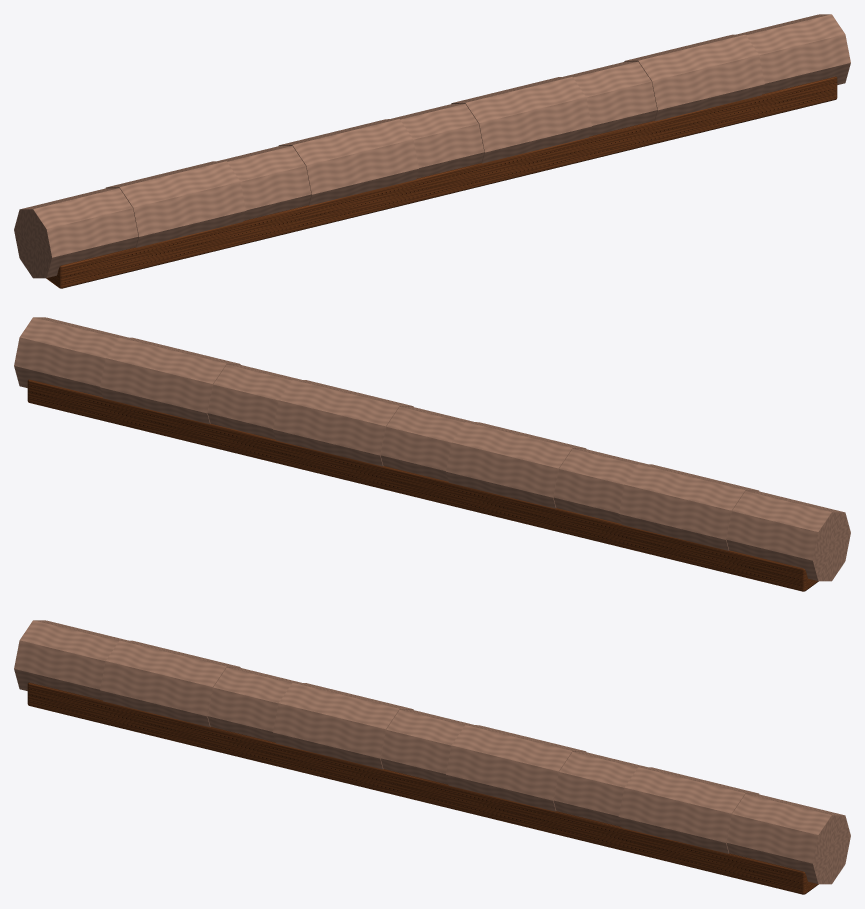
The model's file is pantile-ridge-cap.glb.
The picture shows the model from 3 angles, top to bottom: view 1: azimuth 30°, elevation 25°; view 2: azimuth 150°, elevation 25°; view 3: azimuth 330°, elevation 25°; orthographic projection.
Visible parts, largest first — view 1: pantile-ridge-cap; view 2: pantile-ridge-cap; view 3: pantile-ridge-cap.
Boxes of the visible parts, left/top/right/bottom form: pantile-ridge-cap: left=14, top=14, right=850, bottom=288; pantile-ridge-cap: left=14, top=317, right=850, bottom=591; pantile-ridge-cap: left=14, top=620, right=850, bottom=894.
Bounding box in the file's own units: 4.11 × 0.354 × 0.3479.
Materials: 2 (2 with a texture image).
